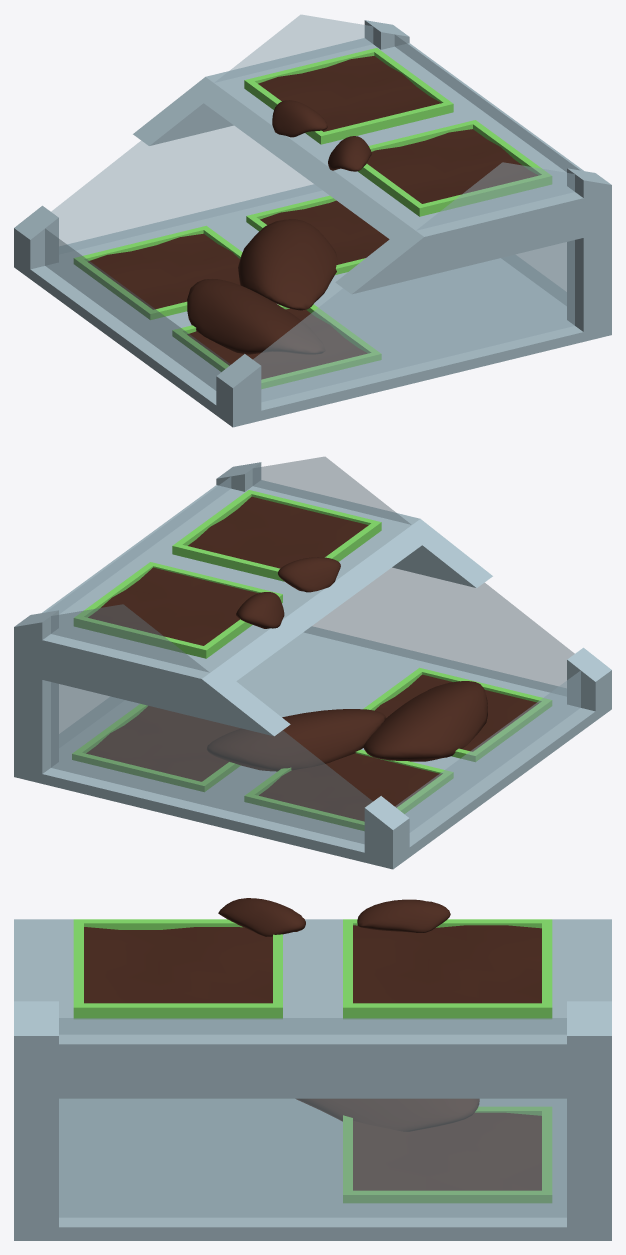
The model's file is Greenhouse (Loss).fbx.
3 views of the same model, one above another, from view 1: azimuth 30°, elevation 25°; view 2: azimuth 150°, elevation 25°; view 3: azimuth 270°, elevation 25° (orthographic). The views are drawn at different scales.
Parts seen in each view (by area): view 1: Greenhouse (Loss), Glass Windows (Loss), Soil Plane.001, Soil Plane.008, Soil Plane.003, Soil Patch.003, Soil Patch.002, Plant Plot (Loss), Plant Plot (Loss).003, Plant Plot (Loss).001, Soil Plane.002, Plant Plot (Loss).002 (+2 smaller); view 2: Greenhouse (Loss), Glass Windows (Loss), Soil Plane.001, Soil Plane.003, Soil Plane.008, Soil Patch.002, Soil Patch.003, Plant Plot (Loss).001, Plant Plot (Loss), Plant Plot (Loss).003, Soil Plane.002, Plant Plot (Loss).002 (+2 smaller); view 3: Greenhouse (Loss), Glass Windows (Loss), Soil Plane.003, Soil Plane.008, Soil Plane.001, Plant Plot (Loss), Plant Plot (Loss).003, Plant Plot (Loss).001, Soil Patch.002, Soil Patch, Soil Patch.001.
Part boxes in pixels (x1,y1,x2,y2): Greenhouse (Loss): (14, 20, 611, 427); Glass Windows (Loss): (45, 14, 579, 401); Soil Plane.001: (88, 200, 389, 309); Soil Plane.008: (367, 129, 537, 203); Soil Plane.003: (258, 56, 441, 131); Soil Patch.003: (187, 279, 325, 354); Soil Patch.002: (238, 219, 337, 310); Plant Plot (Loss): (358, 120, 552, 216); Plant Plot (Loss).003: (244, 48, 453, 144); Plant Plot (Loss).001: (73, 195, 365, 319); Soil Plane.002: (187, 308, 367, 379); Plant Plot (Loss).002: (172, 304, 381, 388); Greenhouse (Loss): (14, 462, 611, 869); Glass Windows (Loss): (46, 456, 580, 843); Soil Plane.001: (86, 706, 441, 821); Soil Plane.003: (88, 567, 257, 645); Soil Plane.008: (188, 496, 368, 568); Soil Patch.002: (207, 709, 385, 771); Soil Patch.003: (363, 681, 487, 761); Plant Plot (Loss).001: (72, 704, 453, 830); Plant Plot (Loss): (172, 490, 381, 581); Plant Plot (Loss).003: (73, 562, 282, 658); Soil Plane.002: (375, 674, 538, 751); Plant Plot (Loss).002: (363, 667, 552, 761); Greenhouse (Loss): (14, 919, 611, 1240); Glass Windows (Loss): (59, 1018, 566, 1217); Soil Plane.003: (353, 925, 541, 1003); Soil Plane.008: (84, 927, 272, 1003); Soil Plane.001: (353, 1112, 541, 1190); Plant Plot (Loss): (73, 919, 282, 1019); Plant Plot (Loss).003: (343, 919, 552, 1019); Plant Plot (Loss).001: (343, 1106, 552, 1203); Soil Patch.002: (296, 1098, 479, 1131); Soil Patch: (357, 899, 450, 932); Soil Patch.001: (218, 898, 305, 936).
Size of the model in its own units: 40 by 40 by 19.28.
